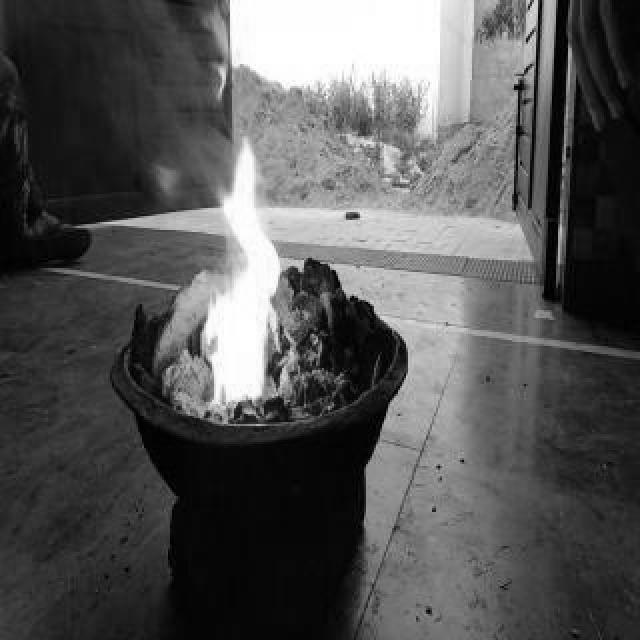Fire: (240, 124, 286, 406), (198, 204, 240, 404), (148, 158, 188, 212)
Smoke: (200, 108, 240, 202)
